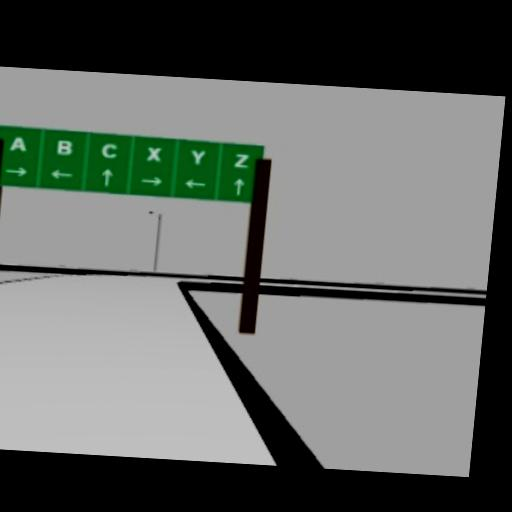A: (8, 134, 29, 150)
B: (56, 138, 73, 154)
C: (99, 140, 118, 156)
Left: (48, 167, 73, 178), (182, 177, 205, 188)
Right: (4, 164, 29, 176), (140, 174, 163, 186)
Straight: (100, 166, 114, 184), (232, 176, 245, 194)
X: (146, 145, 162, 159)
Y: (188, 148, 204, 163)
Z: (233, 152, 249, 167)
